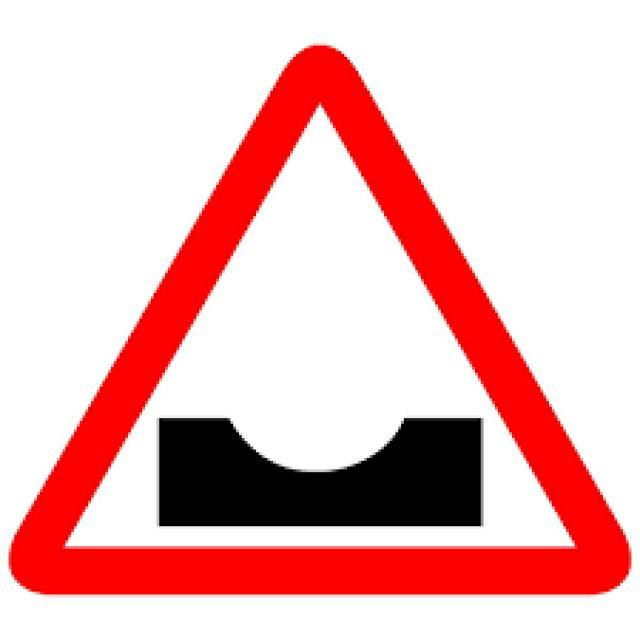dangerous dip: (15, 43, 626, 597)
